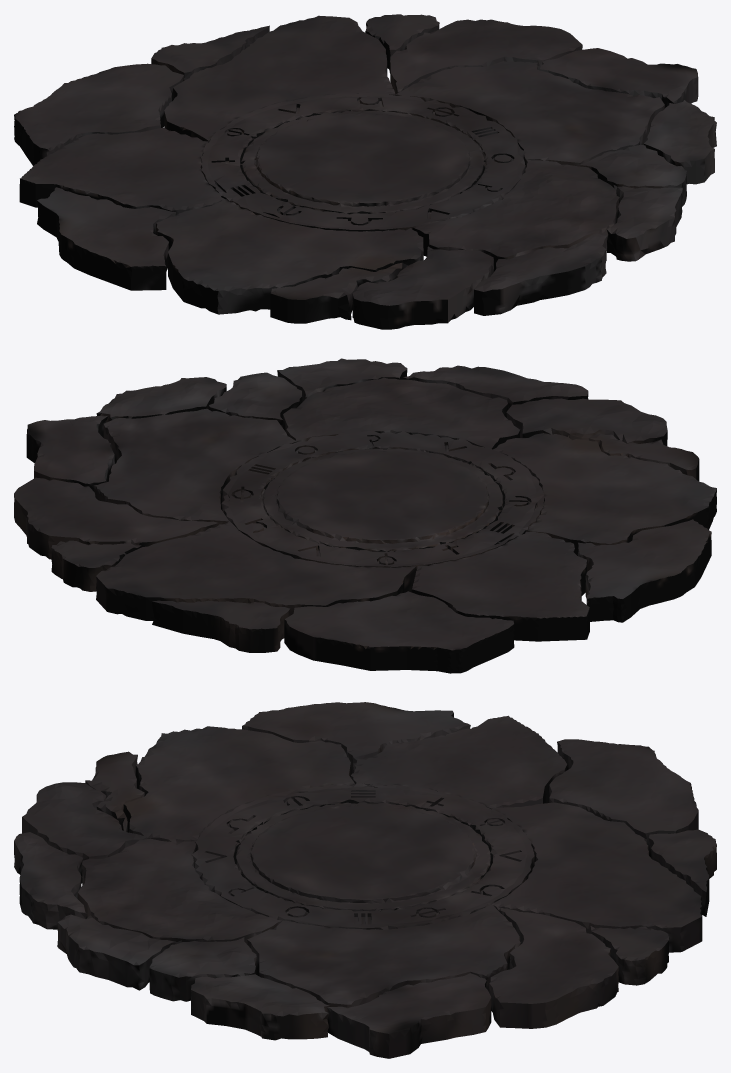
Rendered from EnvironmentStage2.fbx.
3 renders of one model, top to bottom at view 1: azimuth 30°, elevation 25°; view 2: azimuth 150°, elevation 25°; view 3: azimuth 270°, elevation 25°, orthographic. The views are drawn at different scales.
Visible parts, largest first — view 1: Cylinder; view 2: Cylinder; view 3: Cylinder.
Boxes of the visible parts, box(x1,y1,x2,y2) form: Cylinder: box(14, 14, 716, 329); Cylinder: box(14, 358, 716, 673); Cylinder: box(14, 702, 716, 1058).
Bounding box in the file's own units: 688 × 30.14 × 616.
Materials: 1 (1 with a texture image).
